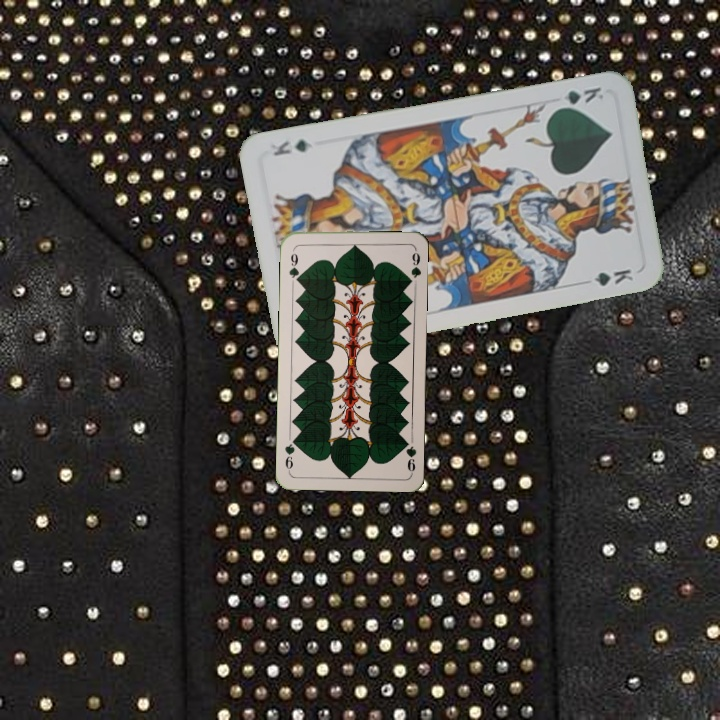G9: (400, 435, 419, 476), (285, 244, 302, 285)
GK: (550, 83, 606, 112)
